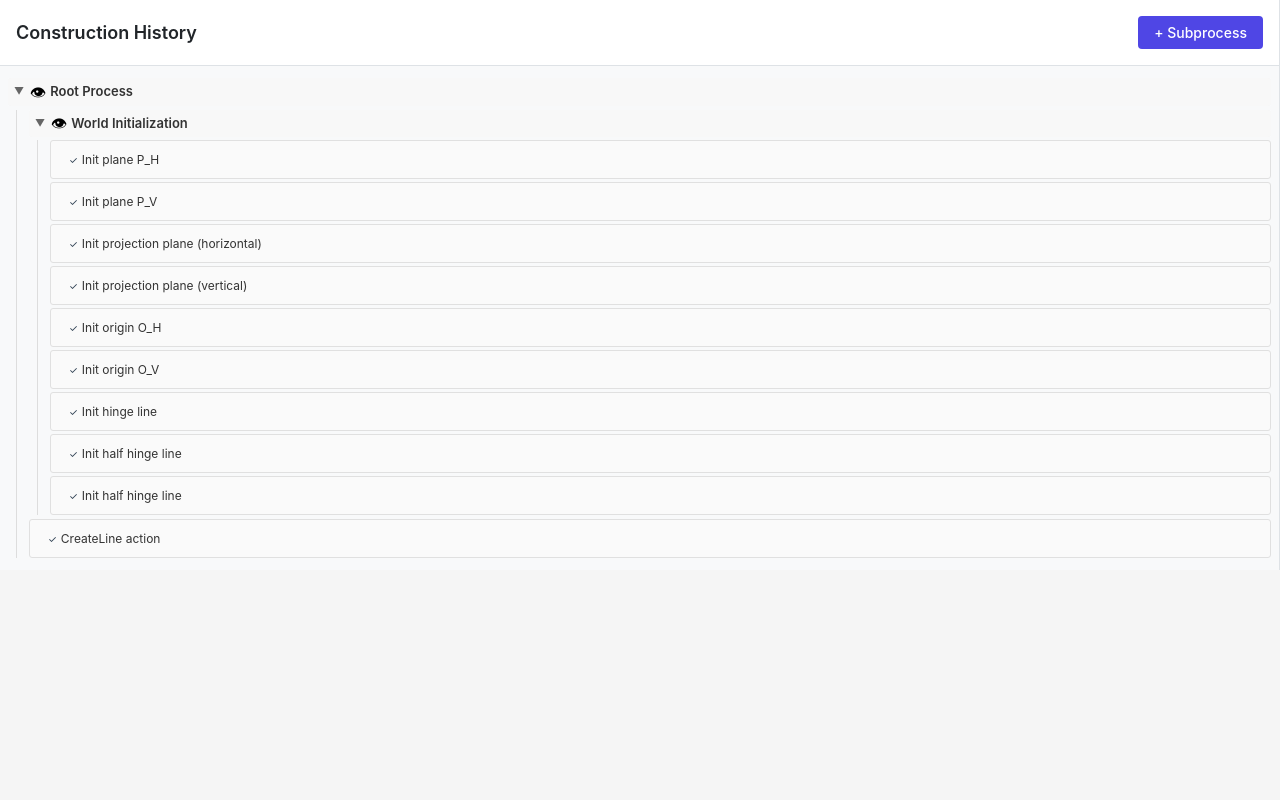
ActionsPanel › should display action inputs/outputs when selected
What coordinates should you click on to do the following:
click the element with class "action-node" showing "✓ CreateLine action"
I would click on:
 (104, 538)
Its box is [48, 531, 160, 546].
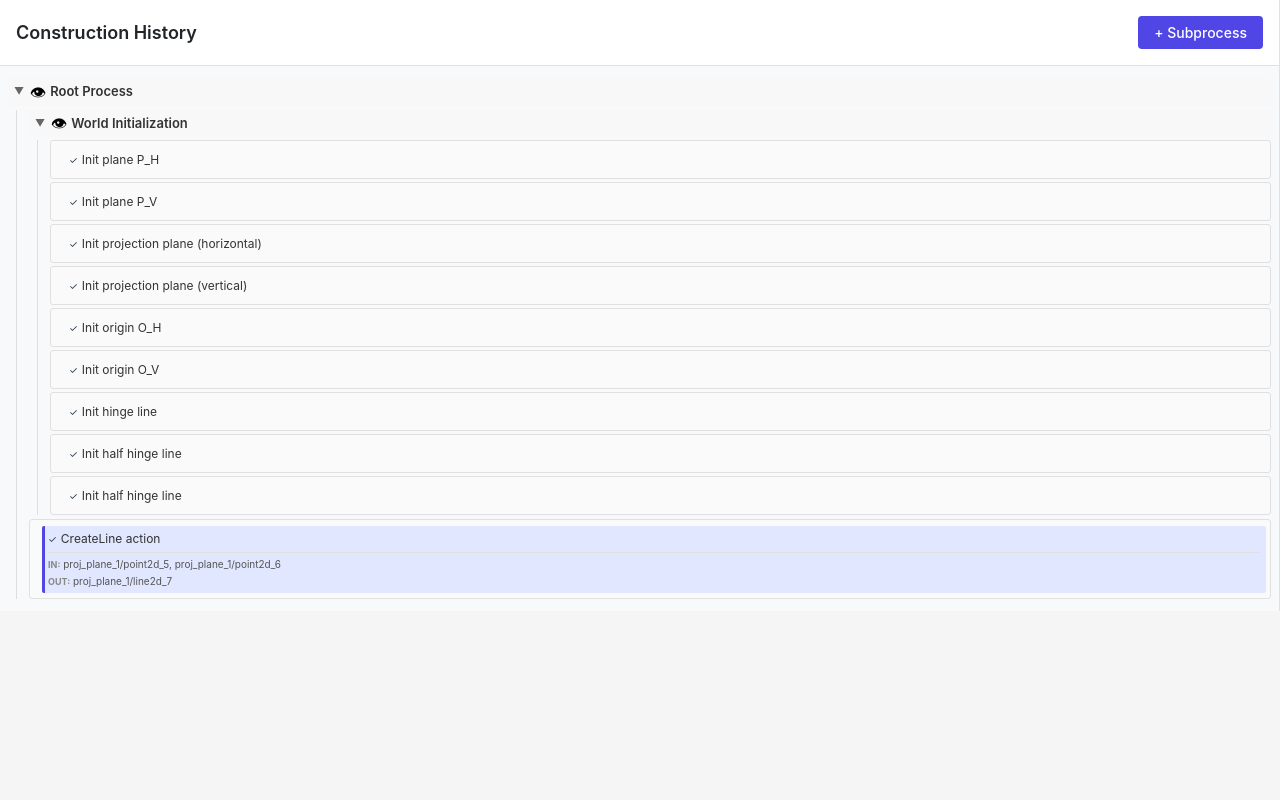
Expected: the element with class "action-details" shows "In:", [48, 559, 60, 570]
Expected: the element with class "action-details" shows "Out:", [48, 576, 70, 587]
